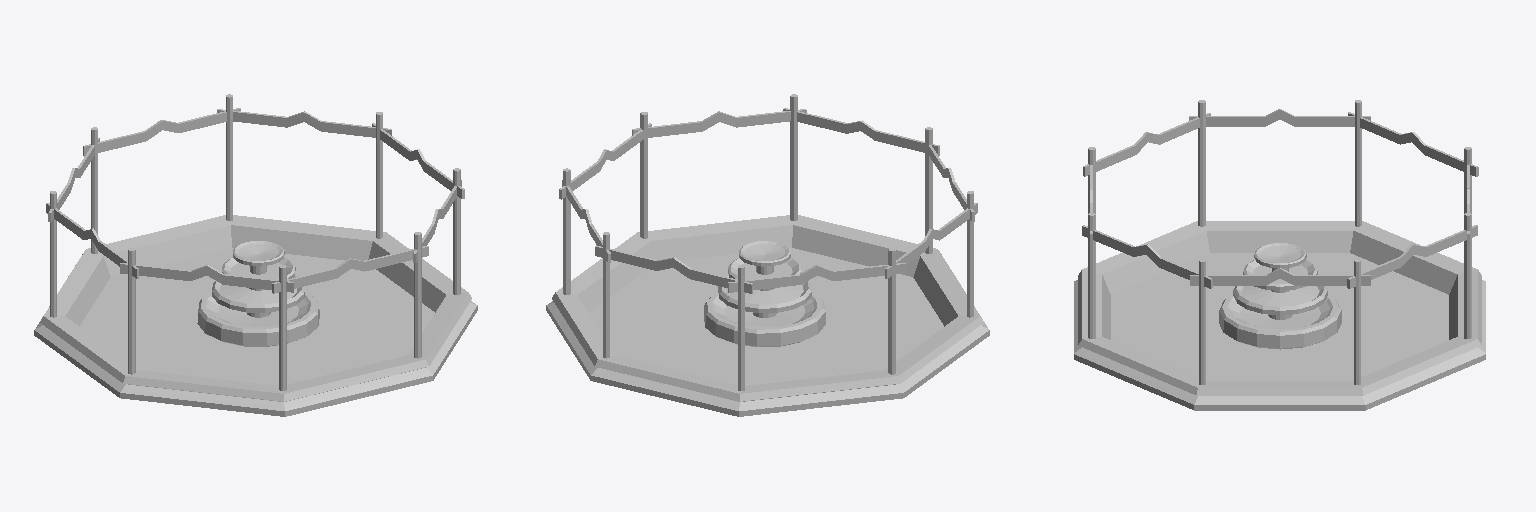
Rendered from Fontain.OBJ.
The picture shows the model from 3 angles: view 1: azimuth 30°, elevation 25°; view 2: azimuth 150°, elevation 25°; view 3: azimuth 270°, elevation 25°; orthographic projection.
Visible parts, largest first — view 1: Group2; view 2: Group2; view 3: Group2.
Part boxes in pixels (x1,y1,x2,y2): Group2: (34,94,477,416); Group2: (546,94,989,416); Group2: (1074,100,1485,410).
Bounding box in the file's own units: 75.94 × 30.35 × 75.94.